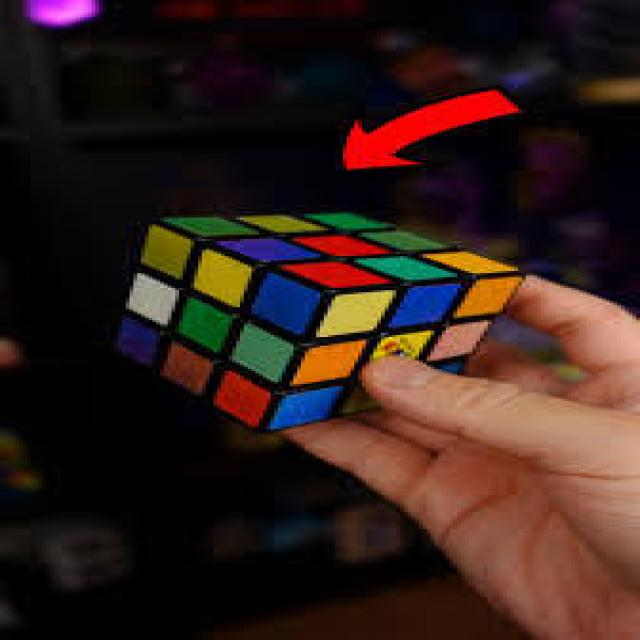Cubo-No-resuelto: (122, 213, 518, 429)
